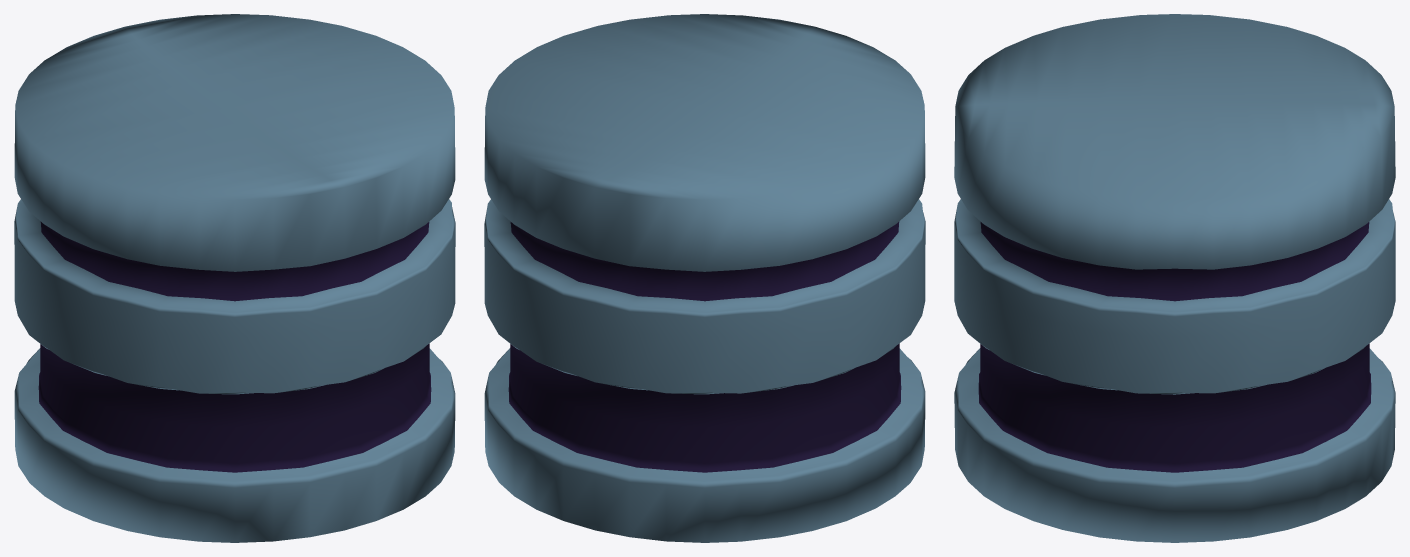
File: Lighthouse_FirstFloor_RAI.fbx
The picture shows the model from 3 angles, left to right: view 1: azimuth 30°, elevation 25°; view 2: azimuth 150°, elevation 25°; view 3: azimuth 270°, elevation 25°; orthographic projection.
Parts seen in each view (by area): view 1: Cylinder; view 2: Cylinder; view 3: Cylinder.
Part boxes in pixels (x1=…): Cylinder: x1=14, y1=14, x2=455, y2=542; Cylinder: x1=484, y1=14, x2=925, y2=542; Cylinder: x1=954, y1=14, x2=1395, y2=542.
Bounding box in the file's own units: 207 × 178 × 207.
